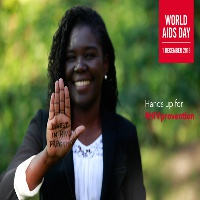ring: (54, 79, 60, 116)
